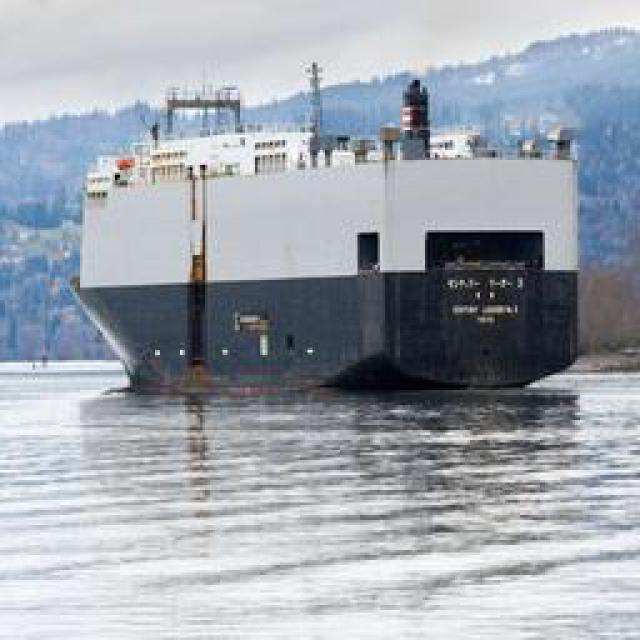Ship: (60, 66, 610, 391)
